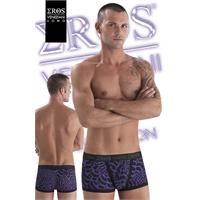mutande: (81, 151, 146, 193), (35, 164, 75, 191)
